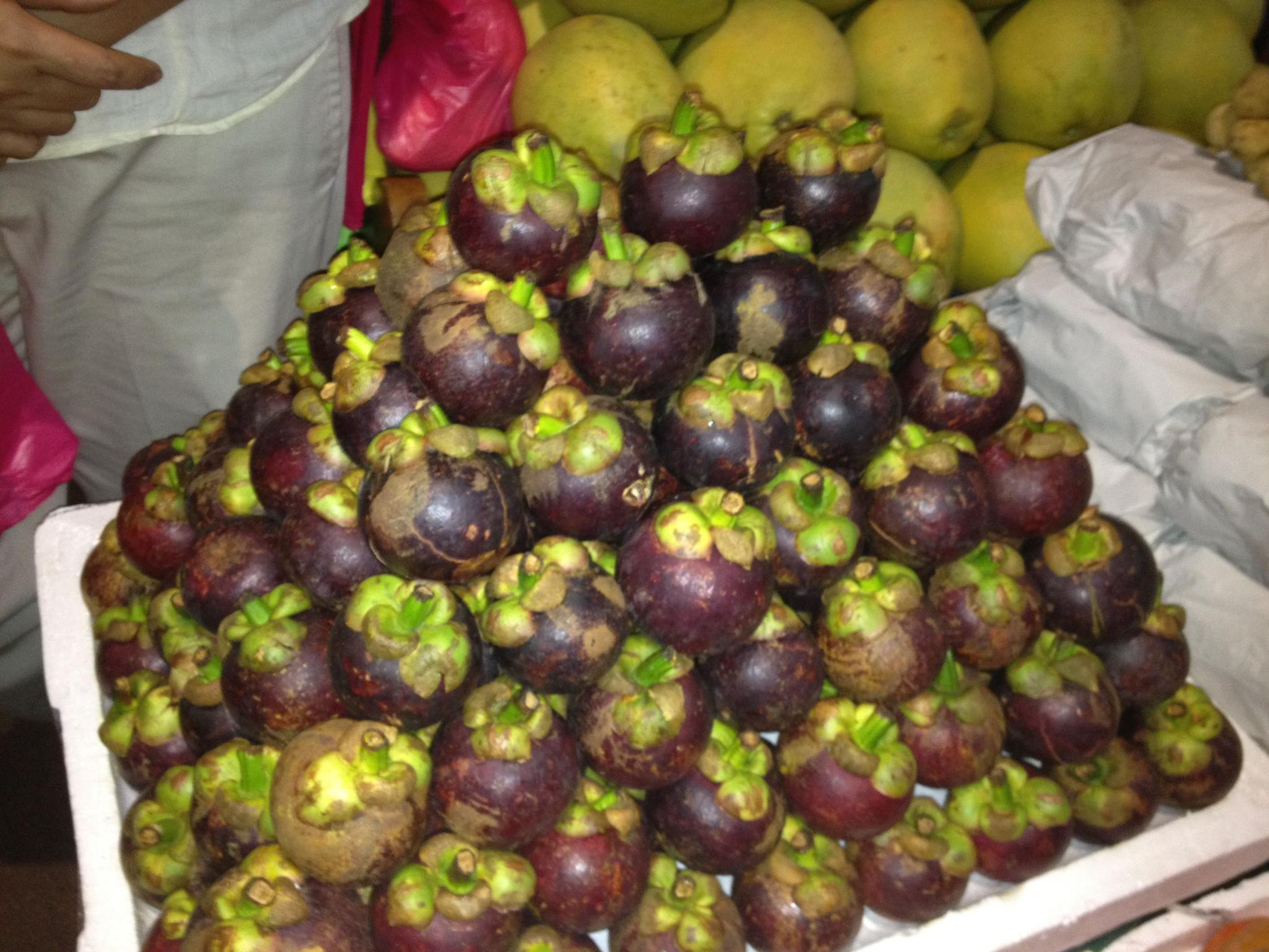mang_cut: (551, 236, 713, 404), (356, 411, 517, 573), (428, 685, 576, 853), (407, 275, 554, 435), (619, 103, 761, 259), (625, 494, 775, 639), (860, 415, 991, 579)
